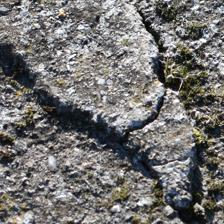Crack: (120, 0, 201, 133), (44, 49, 130, 119), (22, 89, 68, 122)
